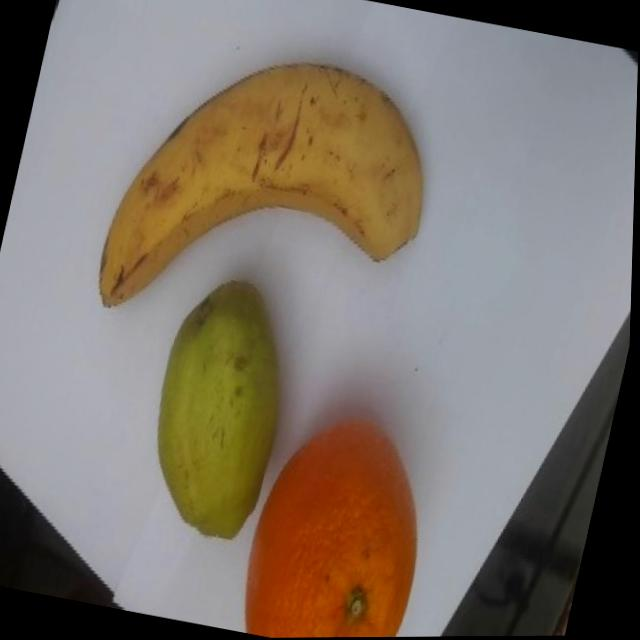Banana: (90, 28, 453, 362)
Orange: (235, 400, 450, 639)
